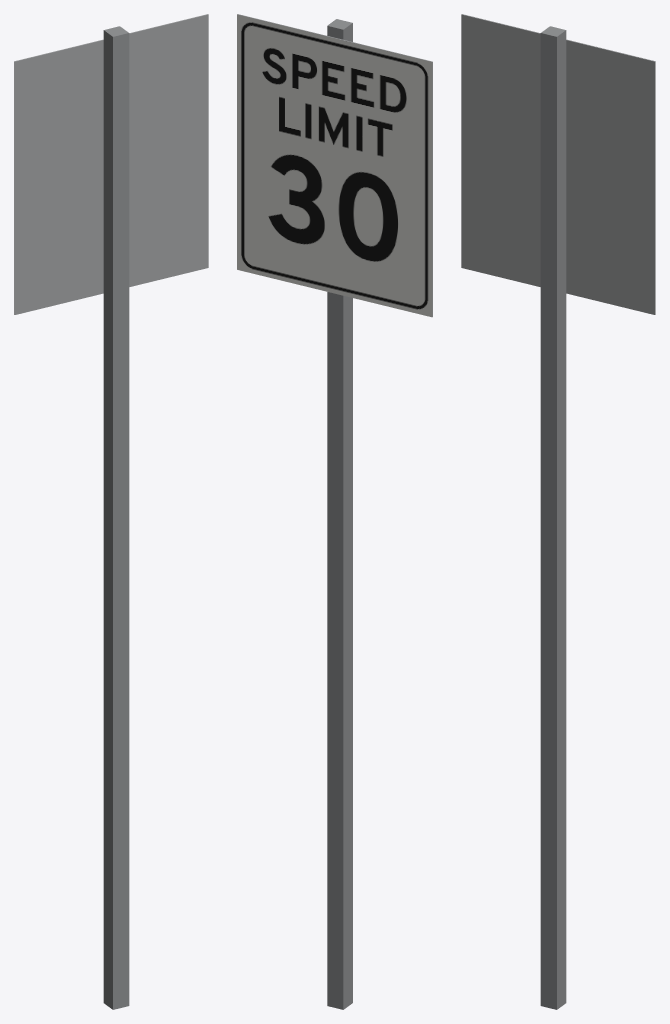
The model's file is sign_r2-1_speed_30.glb.
The picture shows the model from 3 angles, left to right: view 1: azimuth 30°, elevation 25°; view 2: azimuth 150°, elevation 25°; view 3: azimuth 330°, elevation 25°; orthographic projection.
Visible parts, largest first — view 1: sign_r2-1_speed_30; view 2: sign_r2-1_speed_30; view 3: sign_r2-1_speed_30.
Boxes of the visible parts, x1,y1,x2,y2 form: sign_r2-1_speed_30: [14, 14, 208, 1009]; sign_r2-1_speed_30: [237, 14, 432, 1009]; sign_r2-1_speed_30: [461, 14, 655, 1009].
Bounding box in the file's own units: 0.6096 × 2.93 × 0.0543.
Materials: 3 (1 with a texture image).
